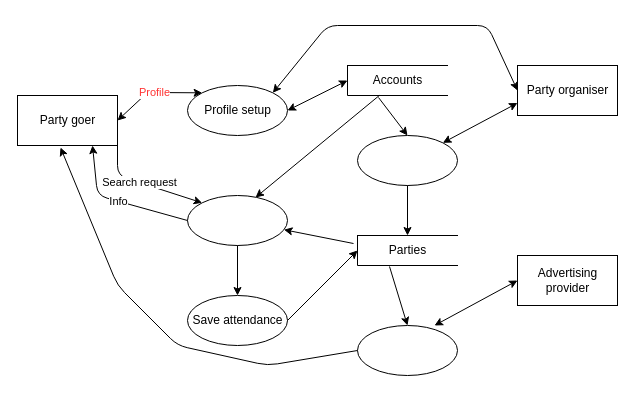
Image size: 635x393. Some labels were removed from this diagram. The shapes that lost their labels are listed below. From the top down, each one's centre as x and y in pixels, then its label:
At point (407, 160): "Register party".
At point (237, 220): "Search & explorer".
At point (407, 350): "Adsense".
